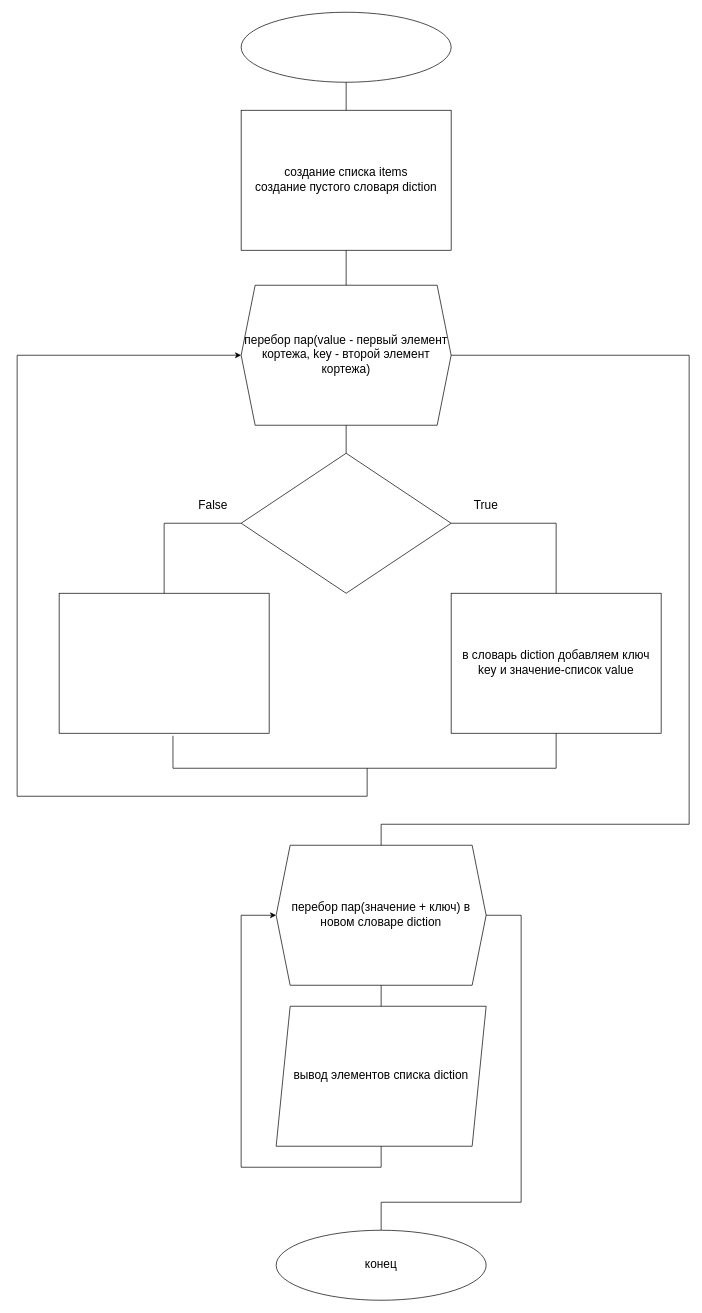
The diagram is 702 pixels wide and 1313 high, and some of its shapes have lost their labels. Here are the shapes that lost their labels. From the top down, the centre of each, then its label:
At point 345,47: "начало".
At point 345,523: "key не лежит в diction".
At point 163,663: "к существующему ключу в список добавляем новое значение value".
